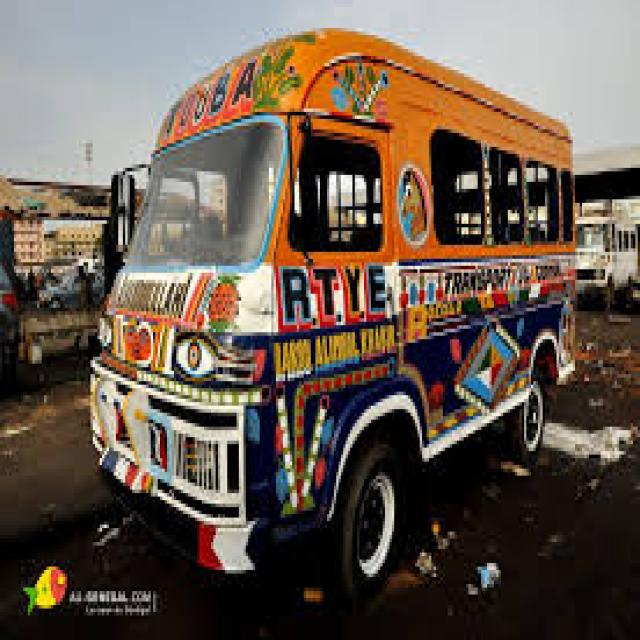car rapide: (92, 31, 575, 591)
